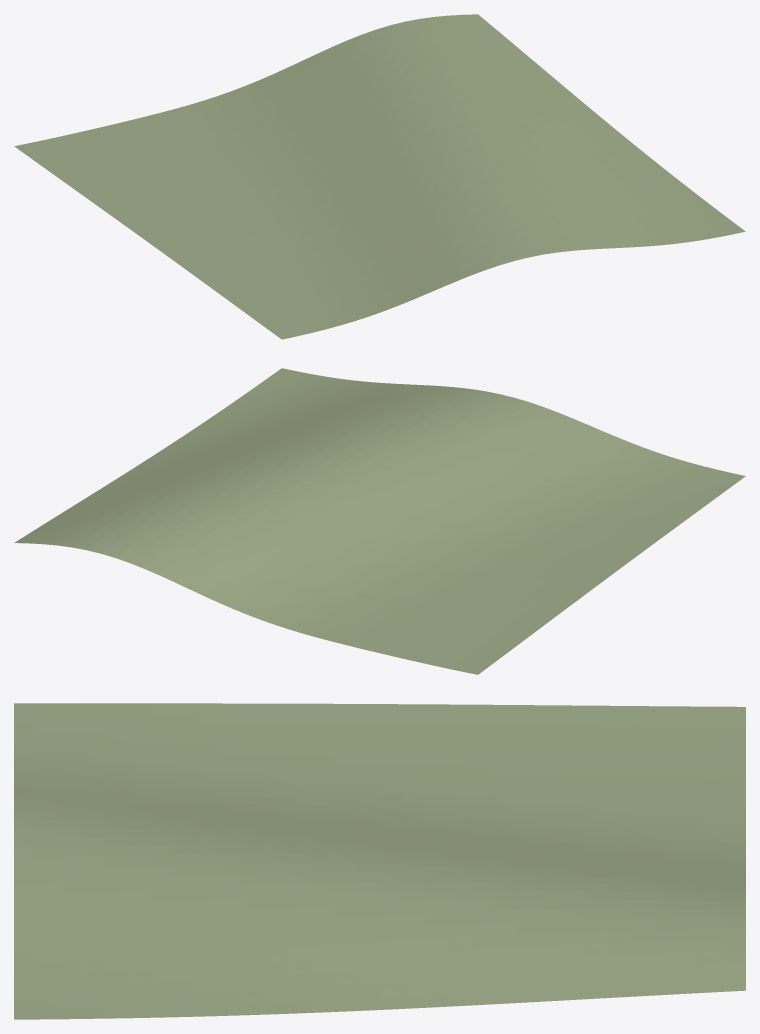
The model's file is desert-8-6.glb.
The picture shows the model from 3 angles, top to bottom: view 1: azimuth 30°, elevation 25°; view 2: azimuth 150°, elevation 25°; view 3: azimuth 270°, elevation 25°; orthographic projection. The views are drawn at different scales.
Visible parts, largest first — view 1: desert-8-6; view 2: desert-8-6; view 3: desert-8-6.
Boxes of the visible parts, x1,y1,x2,y2 form: desert-8-6: [14, 14, 745, 339]; desert-8-6: [14, 368, 745, 674]; desert-8-6: [14, 703, 745, 1019].
Size of the model in its own units: 512 by 33.5 by 512.
